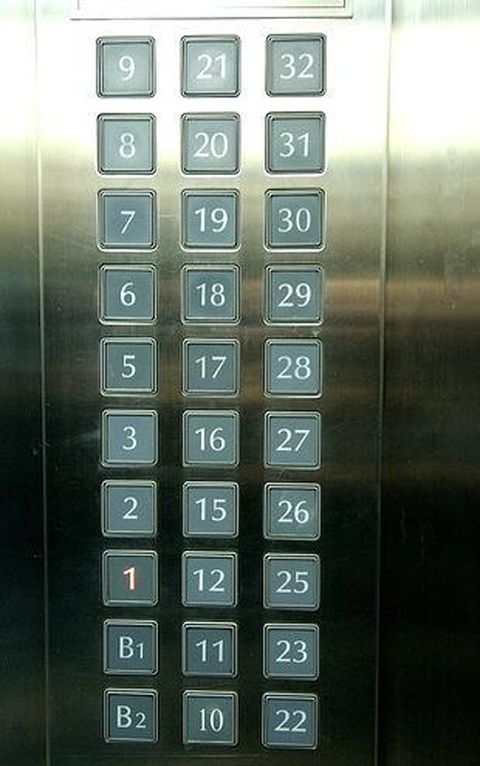1: (102, 550, 160, 606)
10: (180, 690, 239, 747)
11: (179, 621, 239, 679)
12: (180, 551, 239, 608)
15: (180, 480, 240, 537)
16: (181, 408, 240, 467)
17: (180, 337, 241, 398)
18: (181, 261, 241, 326)
19: (179, 187, 241, 253)
2: (99, 478, 160, 538)
20: (179, 111, 242, 177)
21: (180, 34, 241, 98)
22: (261, 692, 318, 750)
23: (262, 621, 320, 681)
25: (262, 553, 321, 610)
26: (263, 482, 321, 541)
27: (262, 409, 321, 471)
28: (263, 338, 324, 399)
29: (263, 262, 325, 325)
3: (101, 409, 160, 467)
30: (262, 186, 327, 253)
31: (263, 110, 327, 176)
32: (265, 32, 327, 97)
5: (98, 335, 159, 396)
6: (96, 263, 157, 327)
7: (95, 187, 158, 252)
8: (95, 112, 157, 177)
9: (95, 35, 156, 99)
B1: (102, 617, 160, 677)
B2: (104, 687, 160, 746)
